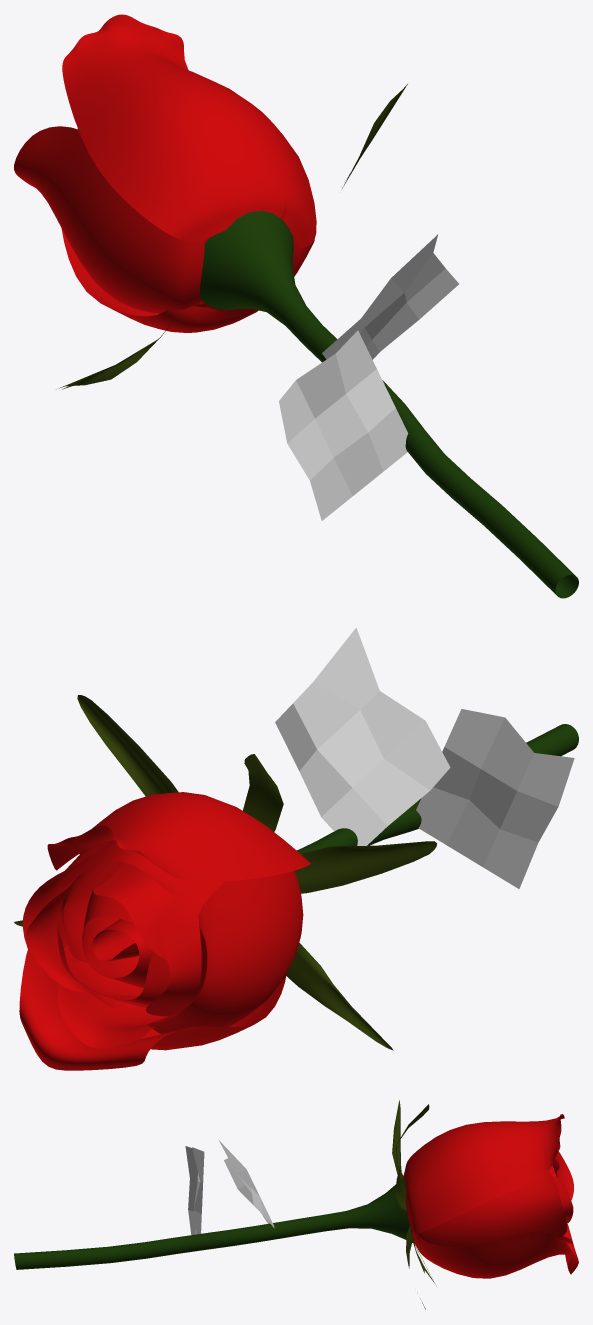
3 renders of one model, top to bottom at view 1: azimuth 30°, elevation 25°; view 2: azimuth 150°, elevation 25°; view 3: azimuth 270°, elevation 25°, orthographic. The views are drawn at different scales.
Parts seen in each view (by area): view 1: 6e328c0b; view 2: 6e328c0b; view 3: 6e328c0b.
Boxes of the visible parts, x1,y1,x2,y2 form: 6e328c0b: (14, 14, 578, 598); 6e328c0b: (14, 627, 578, 1070); 6e328c0b: (14, 1100, 578, 1309).
Bounding box in the file's own units: 0.0636 × 0.0432 × 0.1311.
